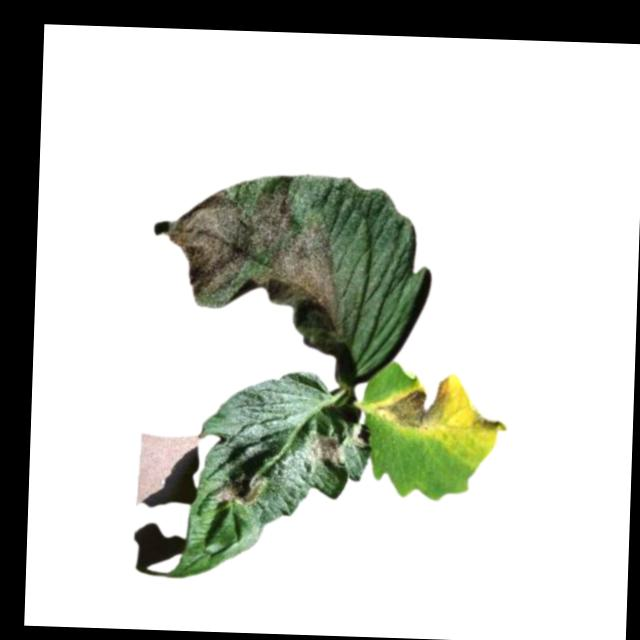Late_blight: (139, 178, 347, 355), (371, 372, 449, 428), (210, 471, 267, 504), (304, 433, 344, 468), (475, 414, 503, 430)
